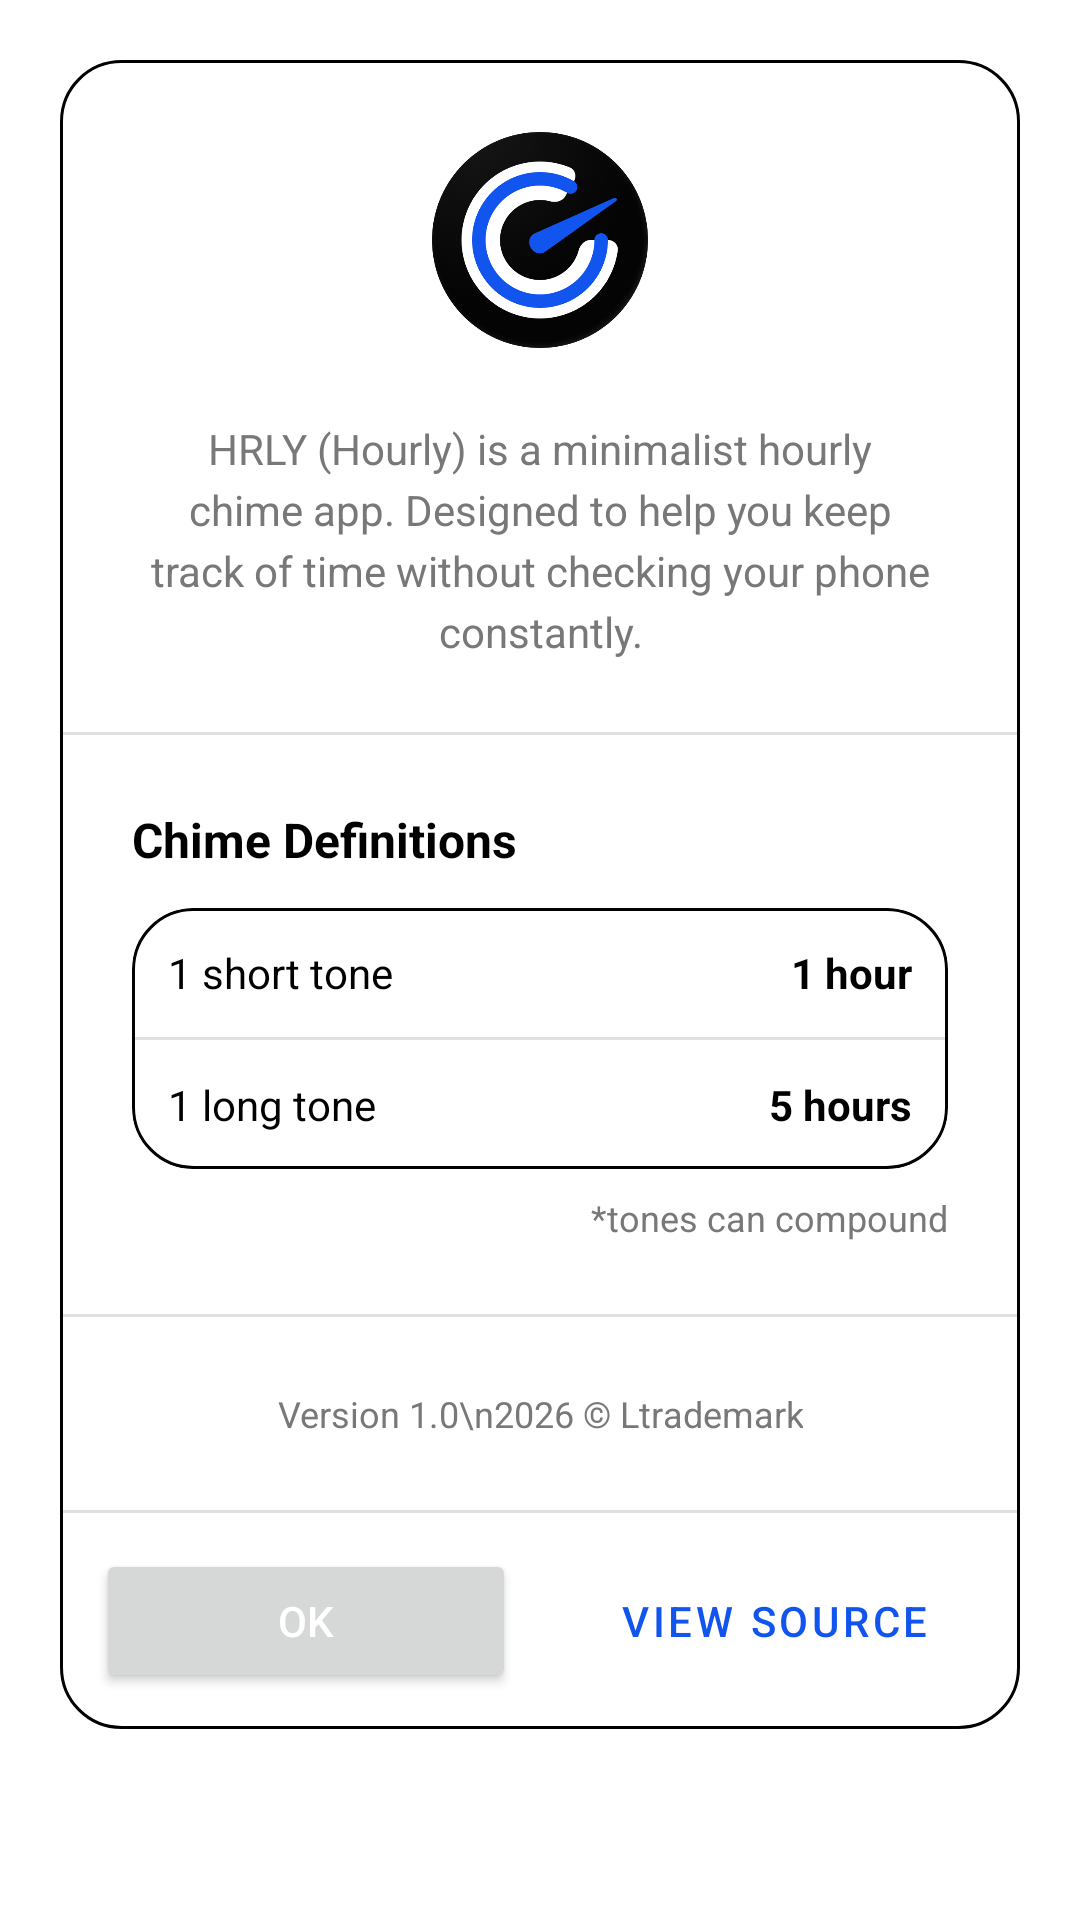

Where to tap for icons on this 1080×1920 app screen, as (x,y):
appicon round: (540,240)
